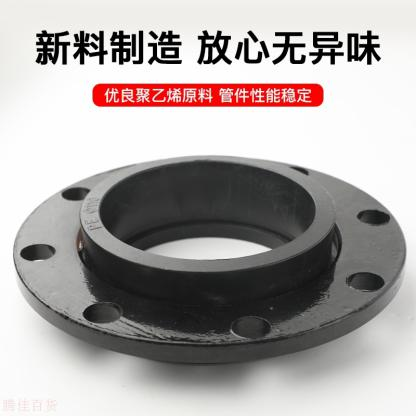FOD: (9, 150, 410, 372)
